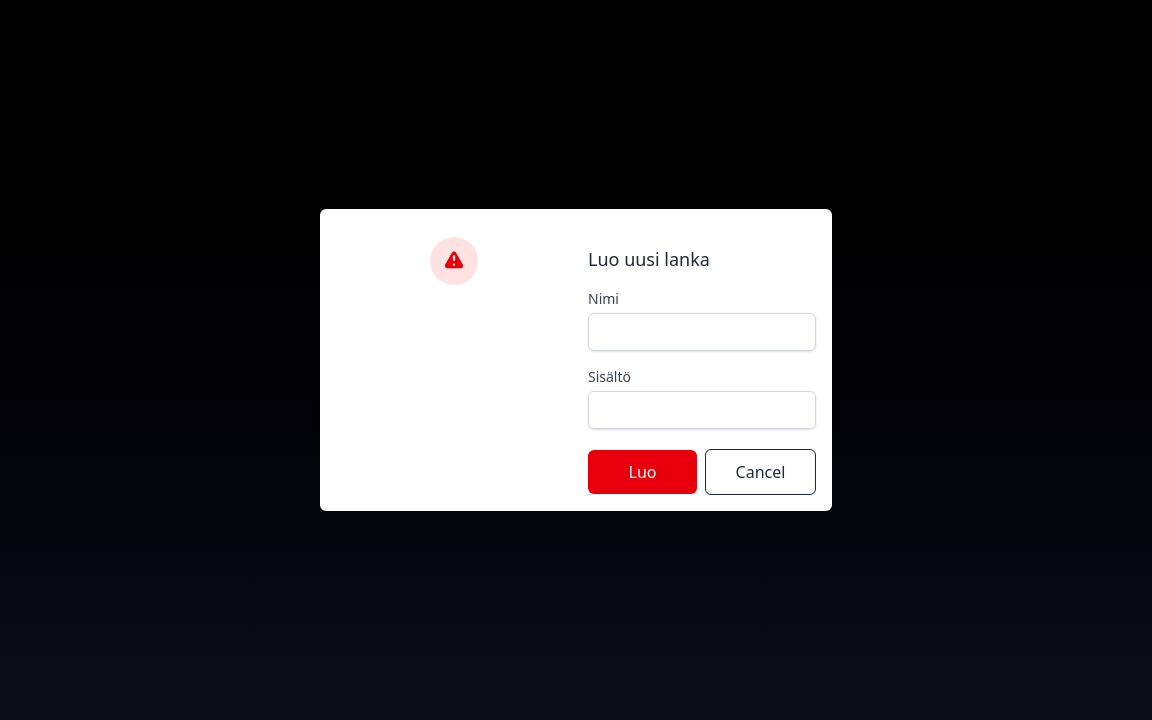
Test: CreateThreadModal › shows an error message when thread creation fails
This screenshot has width=1152, height=720.
Type "Test thread" into the field labelled "Nimi" at (702, 332), box [588, 313, 816, 351]
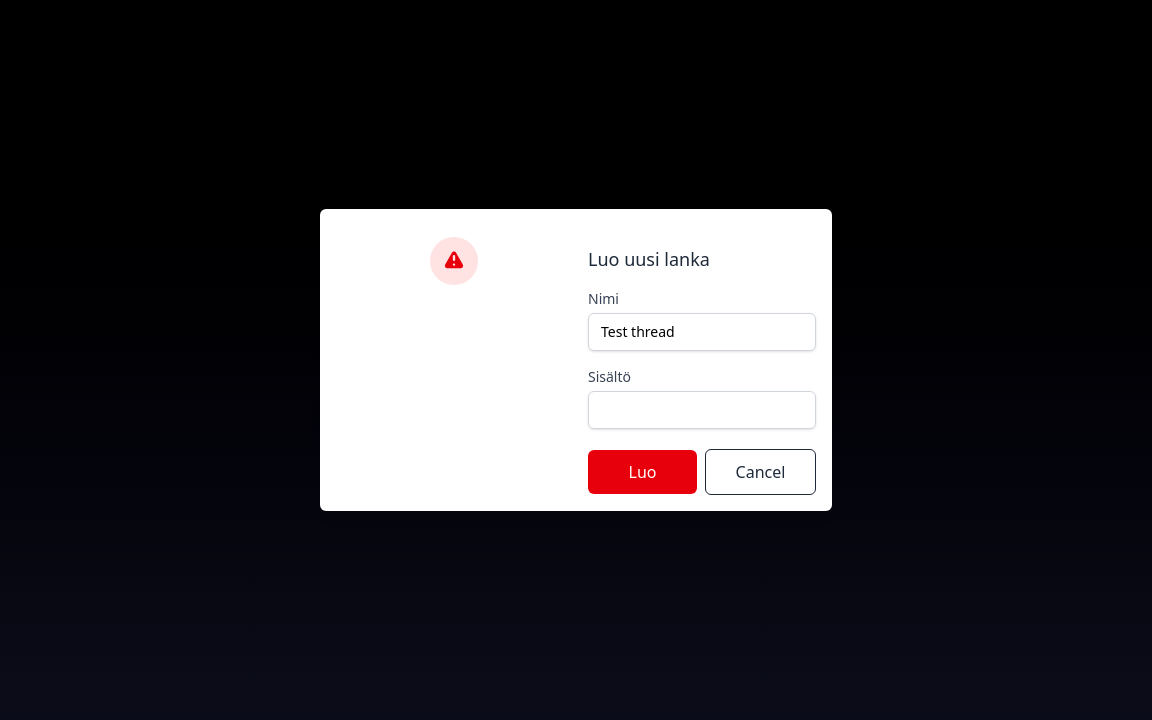
Replace the text in the field named "Sisältö" with "First post content" at (702, 332), box [588, 313, 816, 351]
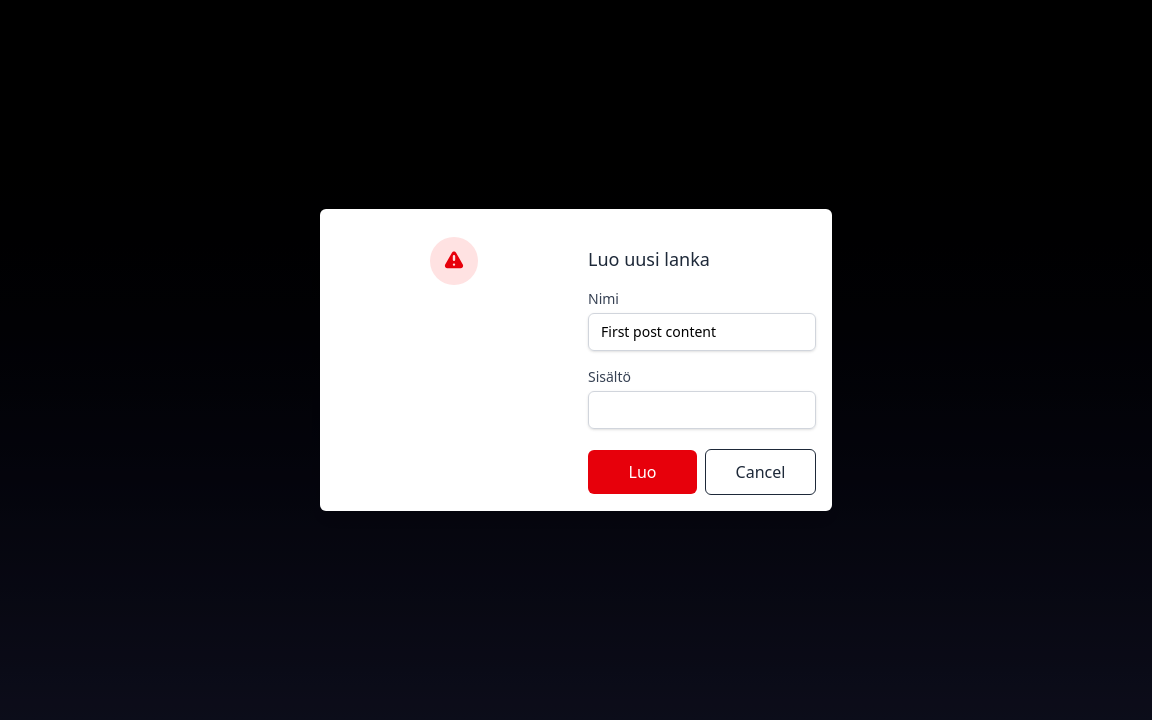
Click the button "Luo" at (642, 472), box [588, 450, 697, 494]
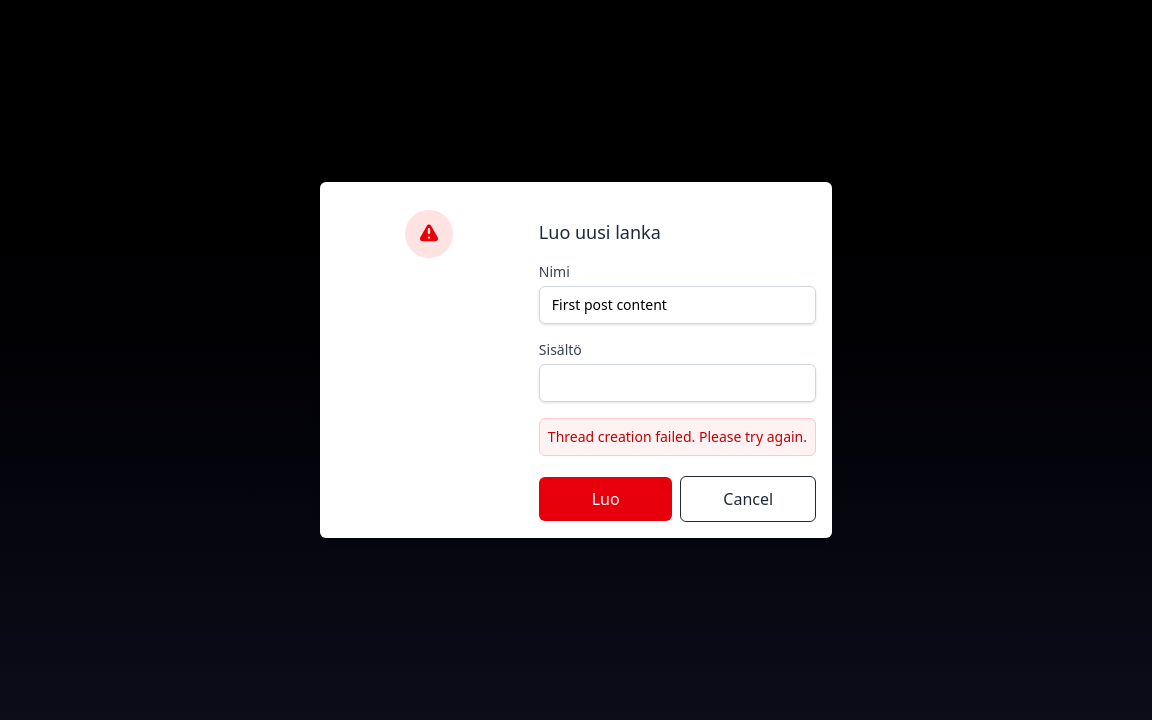
expect the message reads "Thread creation failed. Please try again.": met, box [548, 427, 807, 446]
